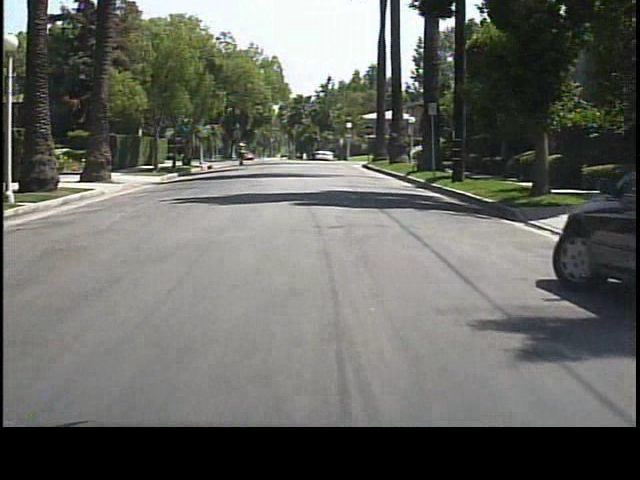person: (234, 136, 250, 168)
